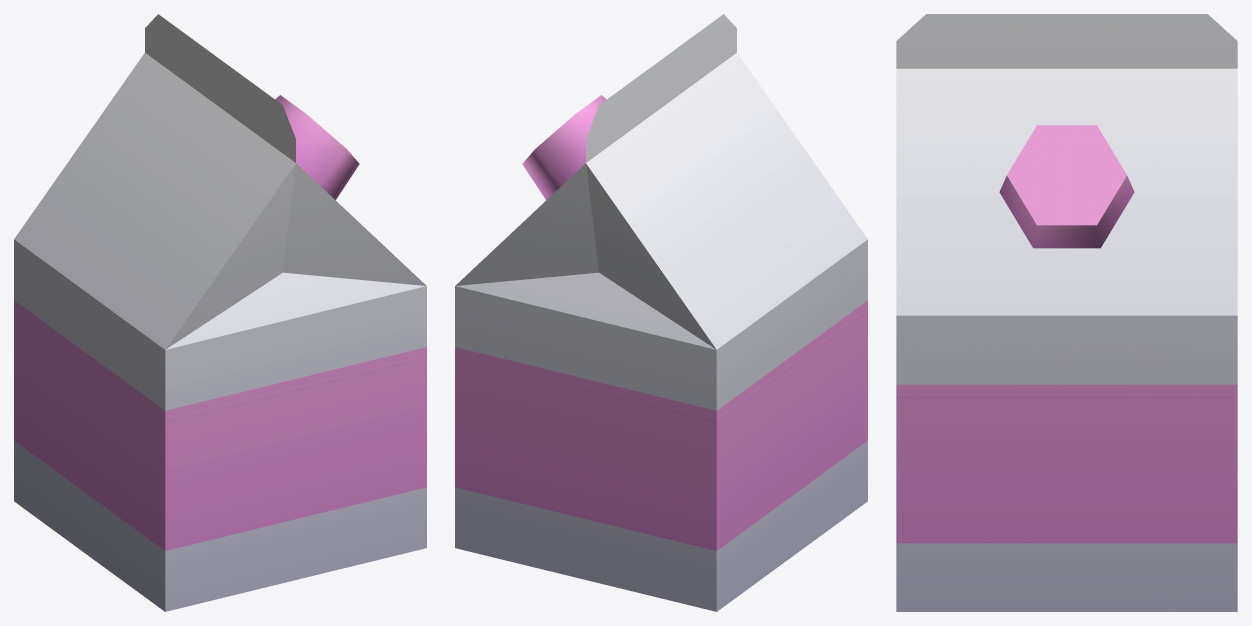
File: carton-small.glb
3 views of the same model, side by side, from view 1: azimuth 30°, elevation 25°; view 2: azimuth 150°, elevation 25°; view 3: azimuth 270°, elevation 25° (orthographic). The views are drawn at different scales.
Parts seen in each view (by area): view 1: carton-small; view 2: carton-small; view 3: carton-small.
Part boxes in pixels (<box>): carton-small: <box>14,14,426,611</box>; carton-small: <box>455,14,867,611</box>; carton-small: <box>896,14,1237,611</box>.
Size of the model in its own units: 0.23 by 0.3905 by 0.23.
Materials: 1 (1 with a texture image).
